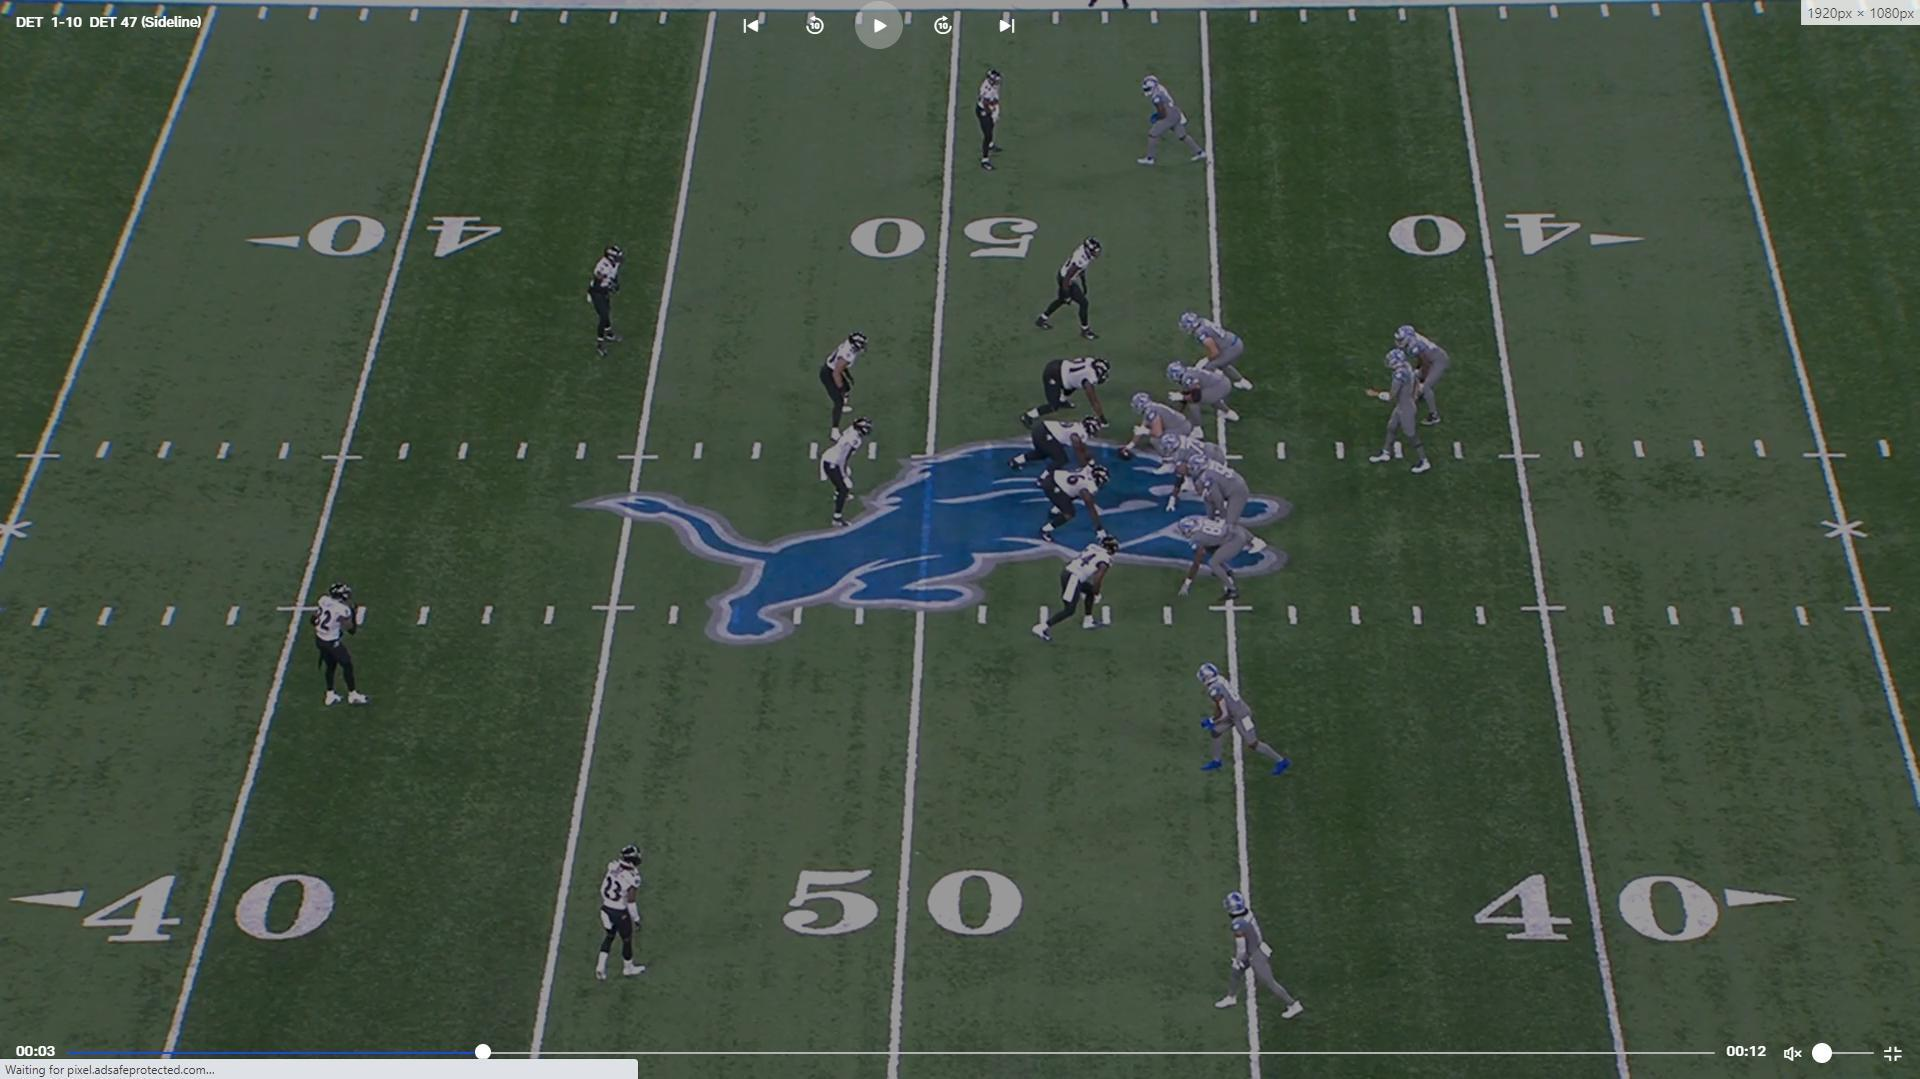defense: (587, 843, 662, 993), (1027, 533, 1120, 650), (314, 578, 373, 718), (816, 414, 884, 530), (1034, 236, 1105, 344), (1022, 352, 1114, 429), (820, 324, 877, 437), (1038, 462, 1114, 542), (585, 241, 633, 360), (1013, 418, 1102, 480), (972, 65, 1006, 177)
oline: (1182, 311, 1261, 398), (1162, 356, 1236, 437), (1171, 450, 1251, 521), (1159, 435, 1226, 516), (1129, 389, 1197, 459)
qb: (1371, 346, 1437, 481)
skill: (1205, 886, 1315, 1026), (1189, 657, 1300, 786), (1129, 73, 1213, 173), (1170, 513, 1251, 609), (1394, 318, 1455, 439)
